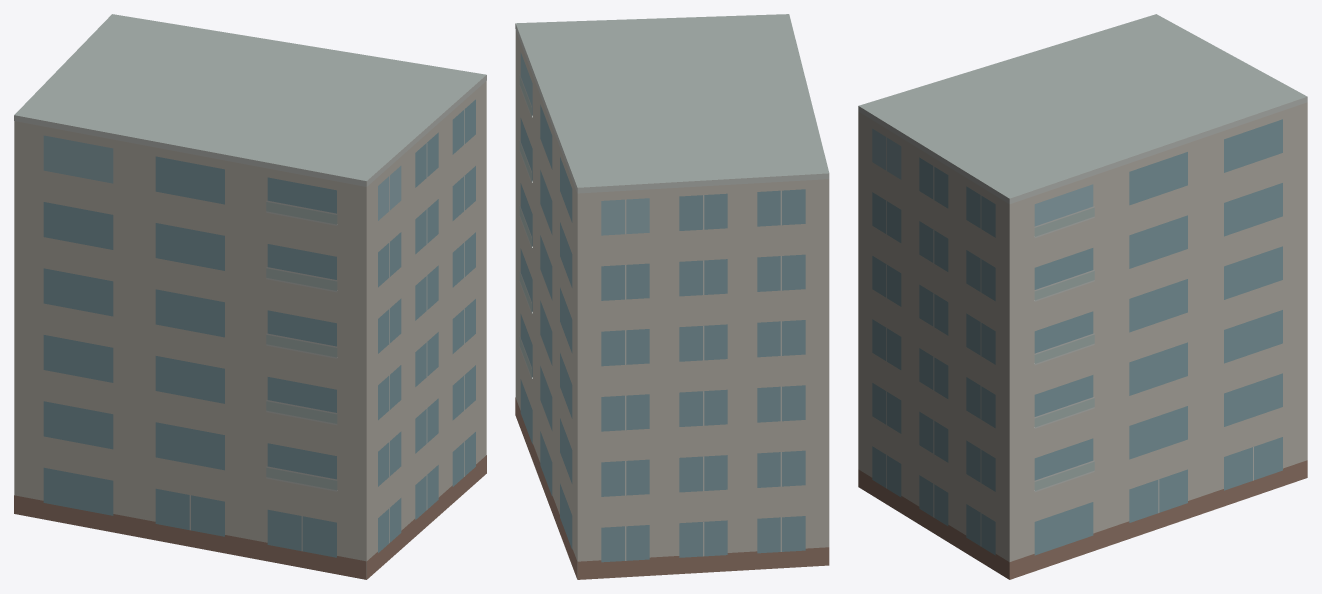
Rendered from survey-upis-32744853.glb.
3 renders of one model, left to right at view 1: azimuth 30°, elevation 25°; view 2: azimuth 150°, elevation 25°; view 3: azimuth 270°, elevation 25°, orthographic. The views are drawn at different scales.
Visible parts, largest first — view 1: survey-upis-32744853.tmp; view 2: survey-upis-32744853.tmp; view 3: survey-upis-32744853.tmp.
Boxes of the visible parts, x1,y1,x2,y2 form: survey-upis-32744853.tmp: (14, 14, 486, 579); survey-upis-32744853.tmp: (515, 14, 829, 579); survey-upis-32744853.tmp: (858, 14, 1307, 579).
Bounding box in the file's own units: 17.26 × 16.6 × 17.74.
